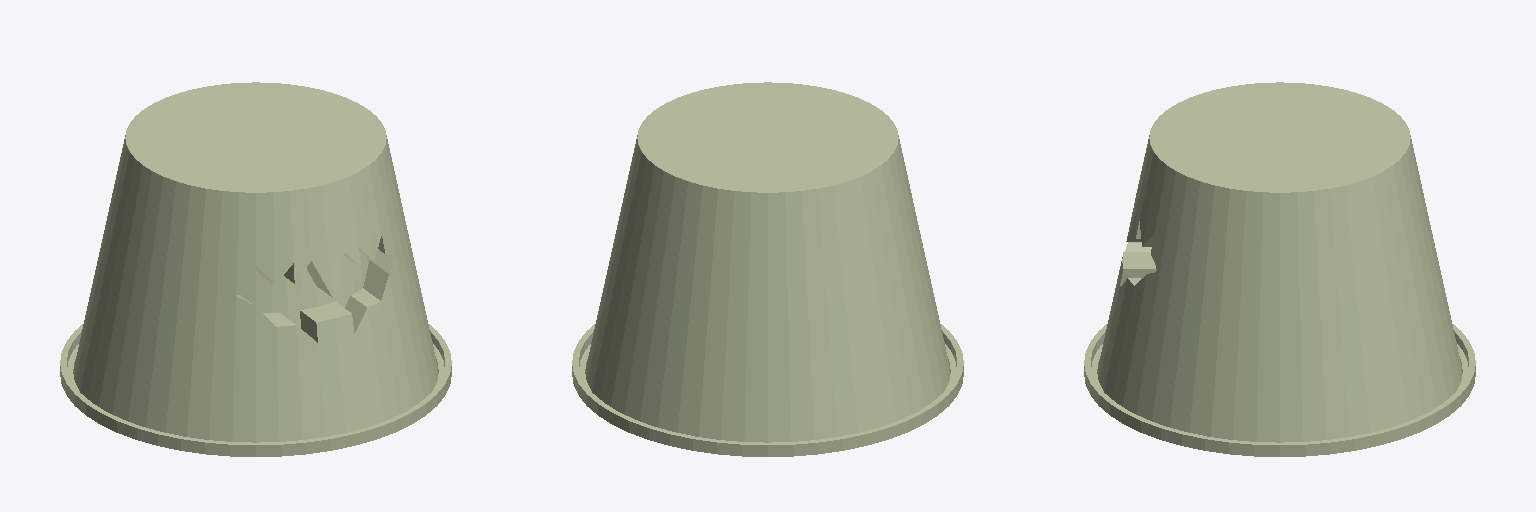
File: kANcan.obj
3 views of the same model, side by side, from view 1: azimuth 30°, elevation 25°; view 2: azimuth 150°, elevation 25°; view 3: azimuth 270°, elevation 25° (orthographic).
Parts seen in each view (by area): view 1: Tube1; view 2: Tube1; view 3: Tube1.
Boxes of the visible parts, box(x1,y1,x2,y2) form: Tube1: box(60, 82, 451, 456); Tube1: box(572, 82, 963, 456); Tube1: box(1084, 82, 1475, 456).
Bounding box in the file's own units: 3 × 2 × 3.